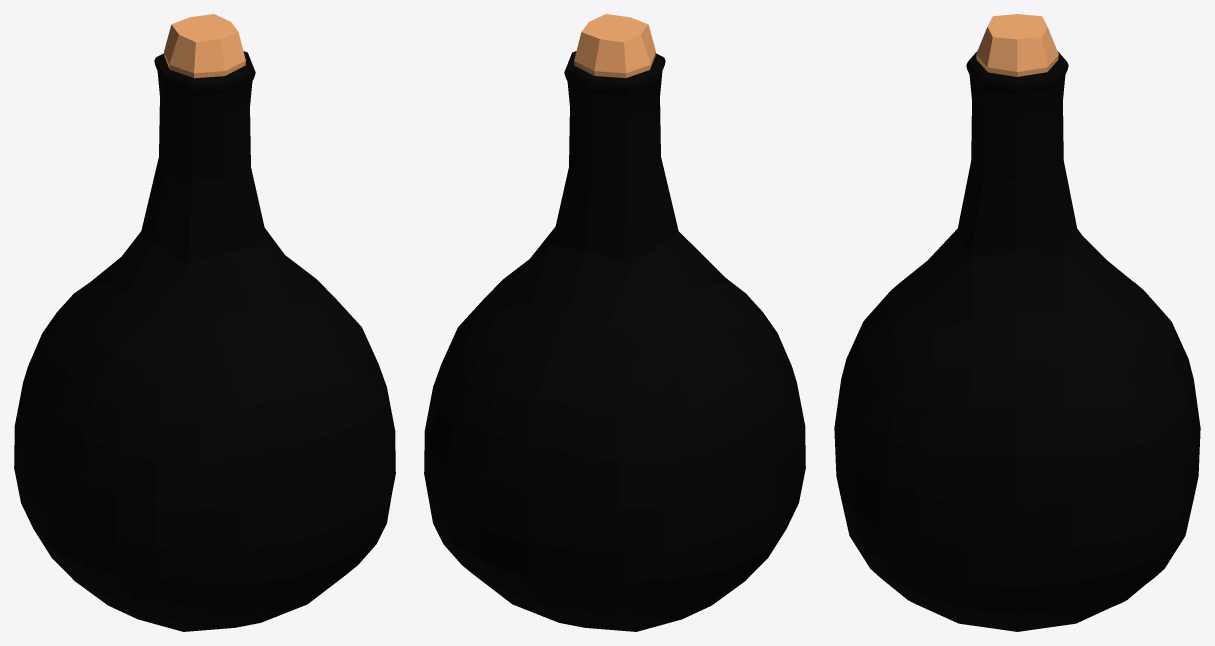
Rendered from Potion.obj.
The picture shows the model from 3 angles, left to right: view 1: azimuth 30°, elevation 25°; view 2: azimuth 150°, elevation 25°; view 3: azimuth 270°, elevation 25°; orthographic projection.
Parts seen in each view (by area): view 1: Potion_Bottle, Potion_Lid; view 2: Potion_Bottle, Potion_Lid; view 3: Potion_Bottle, Potion_Lid.
Part boxes in pixels (bbox=[...]): Potion_Bottle: bbox=[14, 51, 395, 631]; Potion_Lid: bbox=[164, 14, 245, 78]; Potion_Bottle: bbox=[424, 51, 805, 631]; Potion_Lid: bbox=[574, 14, 655, 78]; Potion_Bottle: bbox=[834, 51, 1200, 631]; Potion_Lid: bbox=[976, 14, 1058, 76].
Bounding box in the file's own units: 0.1812 × 0.3213 × 0.1812.
